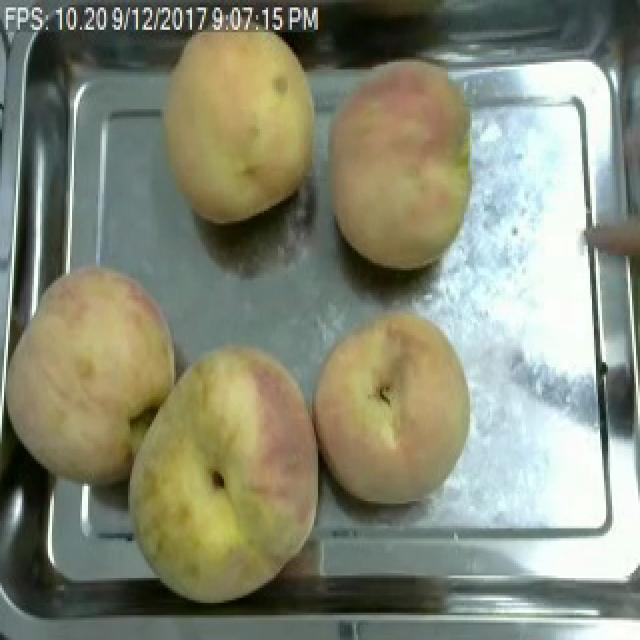Fruit: (106, 330, 342, 613), (0, 253, 192, 496), (312, 47, 488, 280), (150, 8, 326, 236), (302, 300, 482, 514)
